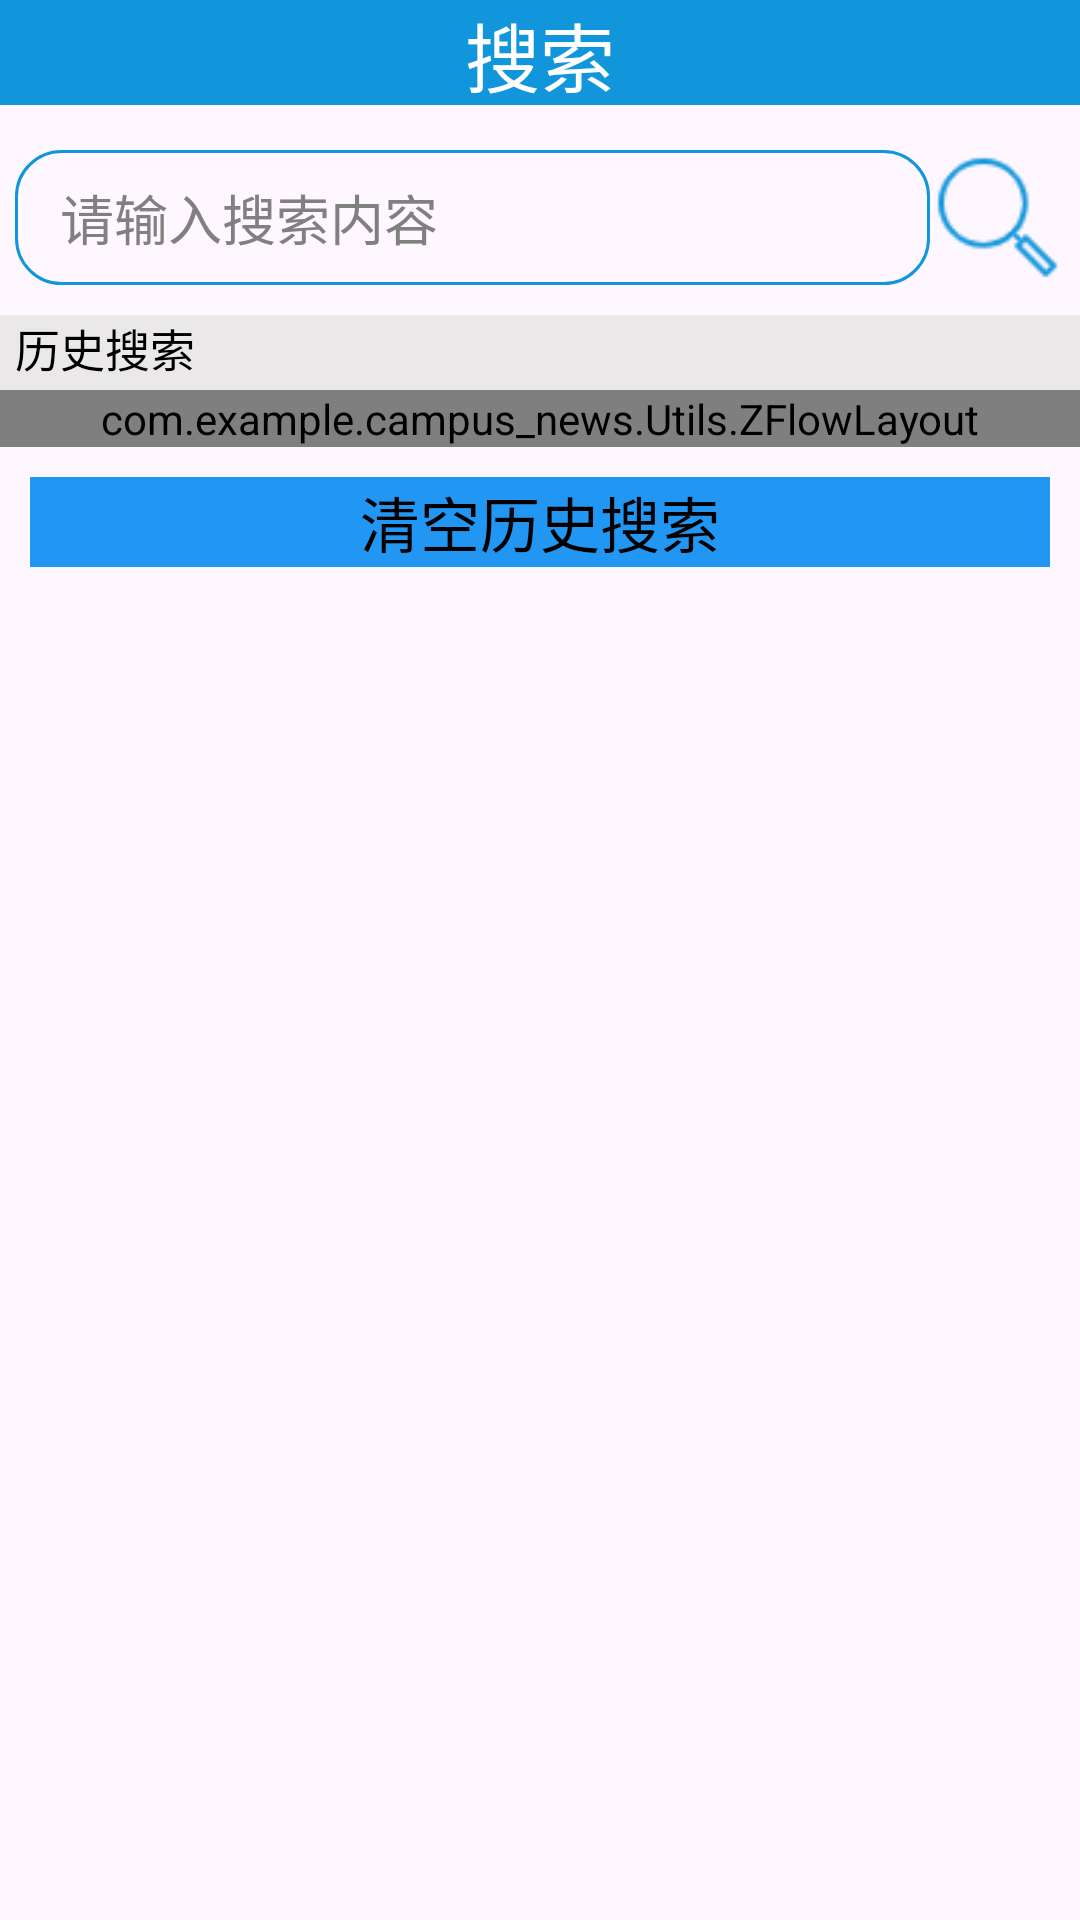

Point at icon controls on the screen. Image size 1080 x 1920, points as [x,y].
search two: [997,217]
